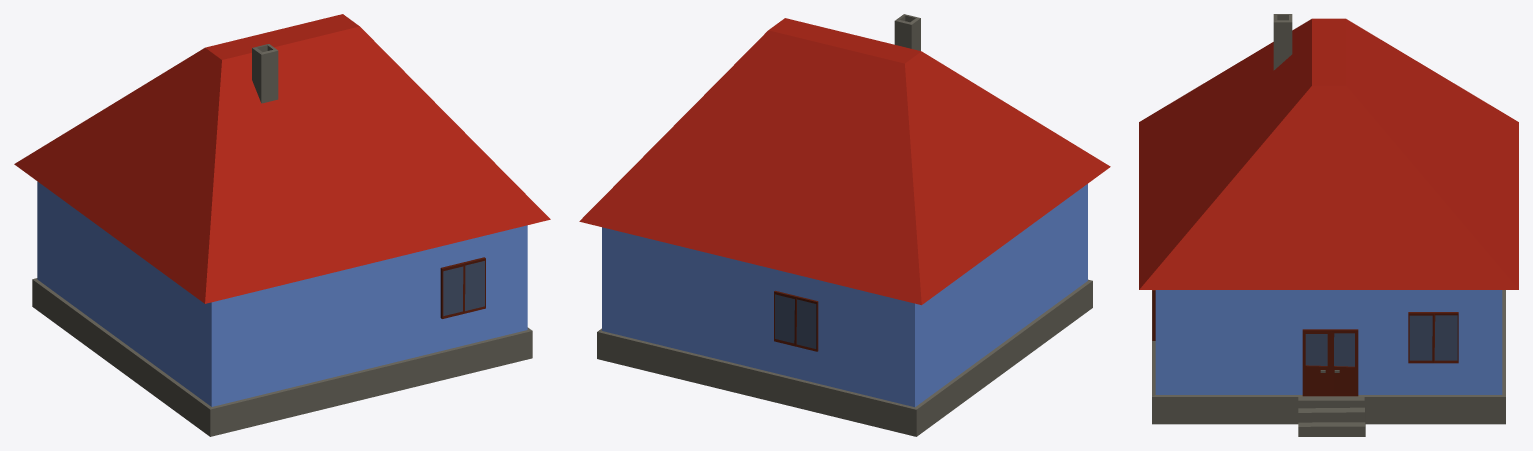
The model's file is BlueHouse.glb.
3 renders of one model, left to right at view 1: azimuth 30°, elevation 25°; view 2: azimuth 150°, elevation 25°; view 3: azimuth 270°, elevation 25°, orthographic.
Visible parts, largest first — view 1: Cube.015; view 2: Cube.015; view 3: Cube.015.
Part boxes in pixels (box(x1,y1,x2,y2)): Cube.015: box(14, 14, 550, 436); Cube.015: box(579, 14, 1110, 436); Cube.015: box(1139, 14, 1518, 436).
Size of the model in its own units: 1.9 by 1.57 by 1.74.
